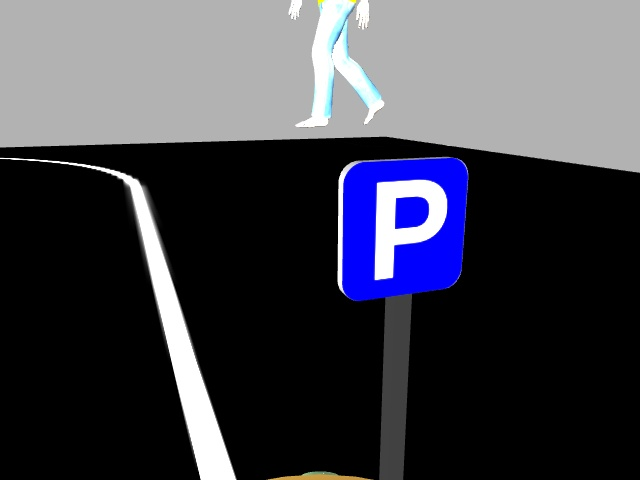Parking: (333, 157, 473, 299)
